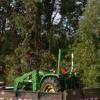Tractor: (14, 57, 86, 98)
